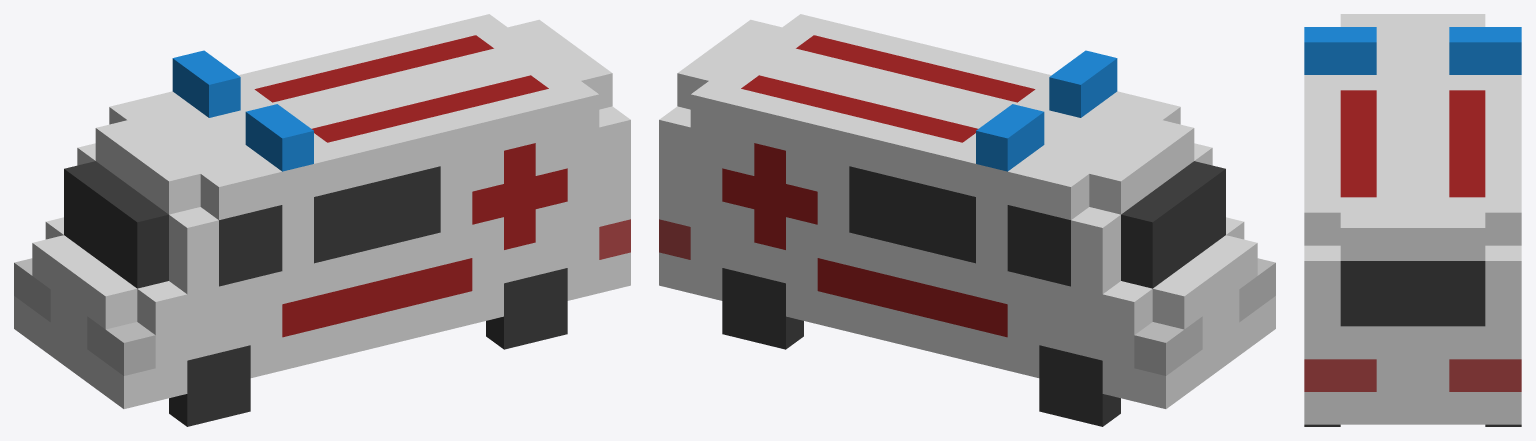
File: emergency-ambulance-1.gltf
3 views of the same model, side by side, from view 1: azimuth 30°, elevation 25°; view 2: azimuth 150°, elevation 25°; view 3: azimuth 270°, elevation 25° (orthographic).
Parts seen in each view (by area): view 1: model, wheels; view 2: model, wheels; view 3: model, wheels.
Boxes of the visible parts, x1=… form: model: x1=14, y1=14, x2=630, y2=408; wheels: x1=169, y1=268, x2=567, y2=426; model: x1=659, y1=14, x2=1275, y2=408; wheels: x1=722, y1=268, x2=1120, y2=426; model: x1=1304, y1=14, x2=1521, y2=424; wheels: x1=1304, y1=424, x2=1521, y2=426.
Bounding box in the file's own units: 1.6 × 0.8 × 0.6.
Materials: 2 (2 with a texture image).
